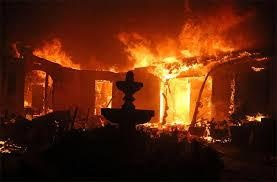fire: (106, 12, 269, 137), (32, 39, 80, 70), (245, 110, 269, 122)
